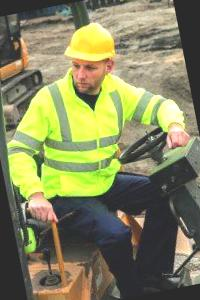helmet: (52, 19, 123, 72)
person: (0, 14, 175, 300)
